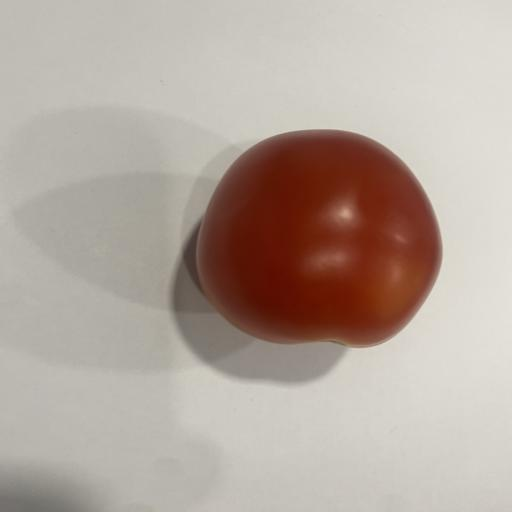ripe: (197, 130, 442, 347)
